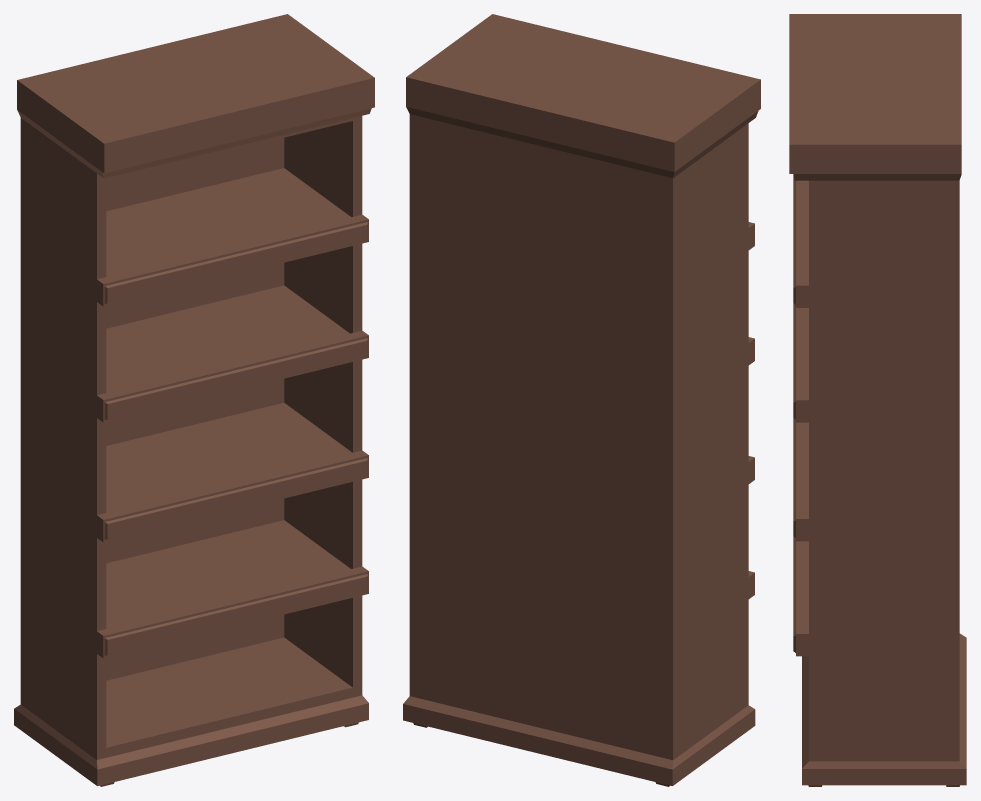
File: Bookcase.glb
3 views of the same model, side by side, from view 1: azimuth 30°, elevation 25°; view 2: azimuth 150°, elevation 25°; view 3: azimuth 270°, elevation 25° (orthographic).
Visible parts, largest first — view 1: Bookcase_01_Cube.027; view 2: Bookcase_01_Cube.027; view 3: Bookcase_01_Cube.027.
Part boxes in pixels (<box>): Bookcase_01_Cube.027: <box>14,14,374,786</box>; Bookcase_01_Cube.027: <box>403,14,760,786</box>; Bookcase_01_Cube.027: <box>789,14,966,786</box>.
Size of the model in its own units: 20.63 by 47.3 by 11.77.
